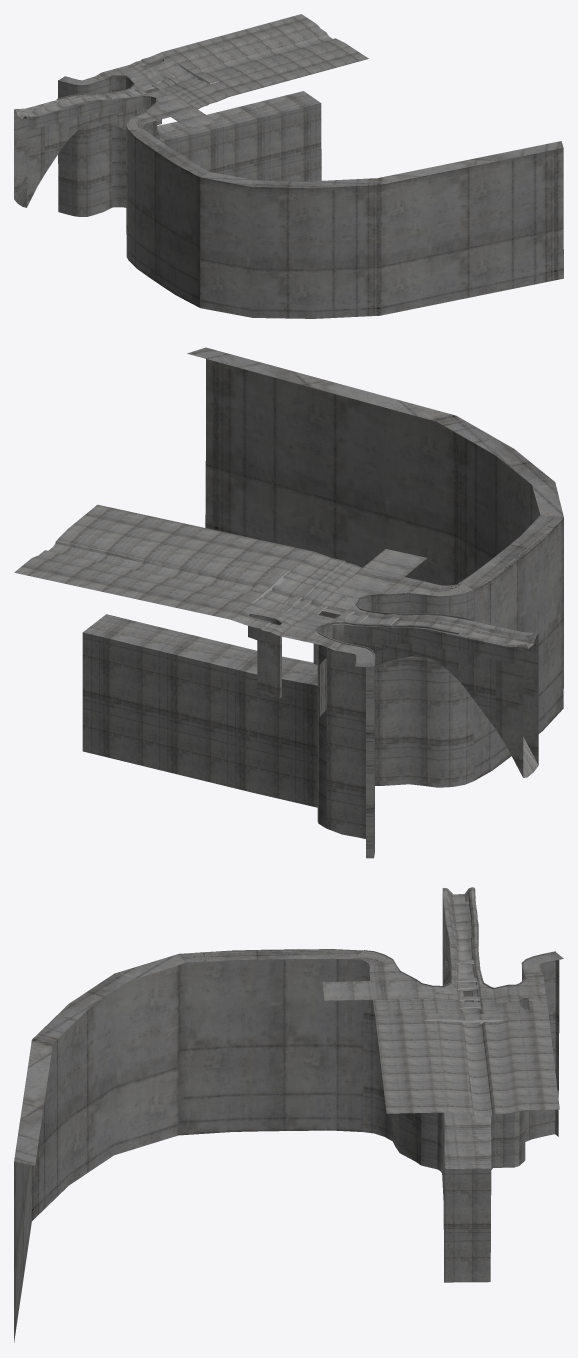
File: SM_BetonDarme_01_00.fbx
3 views of the same model, one above another, from view 1: azimuth 30°, elevation 25°; view 2: azimuth 150°, elevation 25°; view 3: azimuth 270°, elevation 25° (orthographic). The views are drawn at different scales.
Visible parts, largest first — view 1: SM_BetonDarme_01_00; view 2: SM_BetonDarme_01_00; view 3: SM_BetonDarme_01_00.
Boxes of the visible parts, left/top/right/bottom form: SM_BetonDarme_01_00: left=14, top=14, right=563, bottom=318; SM_BetonDarme_01_00: left=14, top=347, right=563, bottom=858; SM_BetonDarme_01_00: left=14, top=887, right=563, bottom=1342.
Size of the model in its own units: 23848 by 8340 by 21053.
